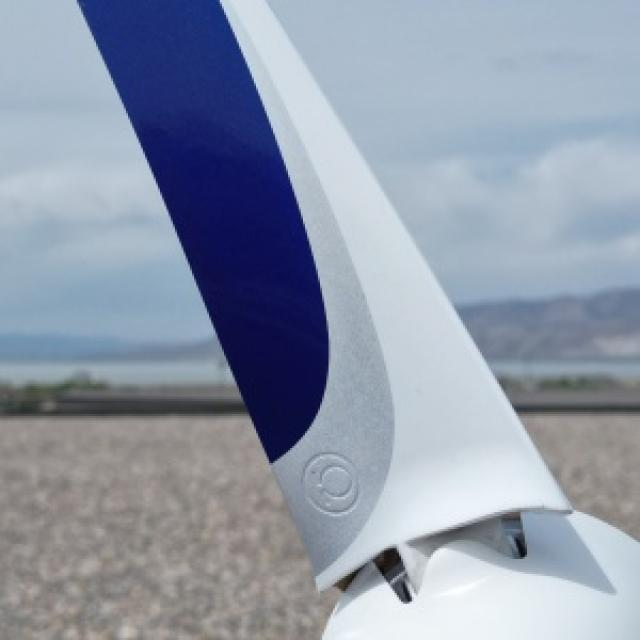healthy: (77, 0, 638, 638)
